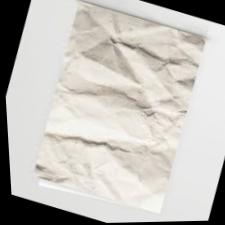paper: (20, 0, 218, 224)
